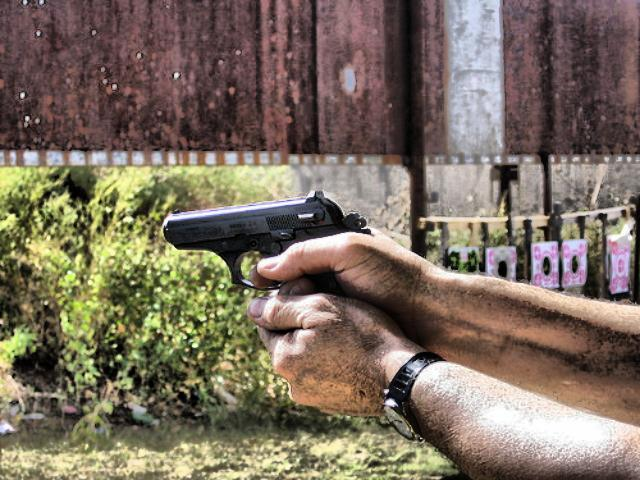pistol: (162, 189, 372, 299)
